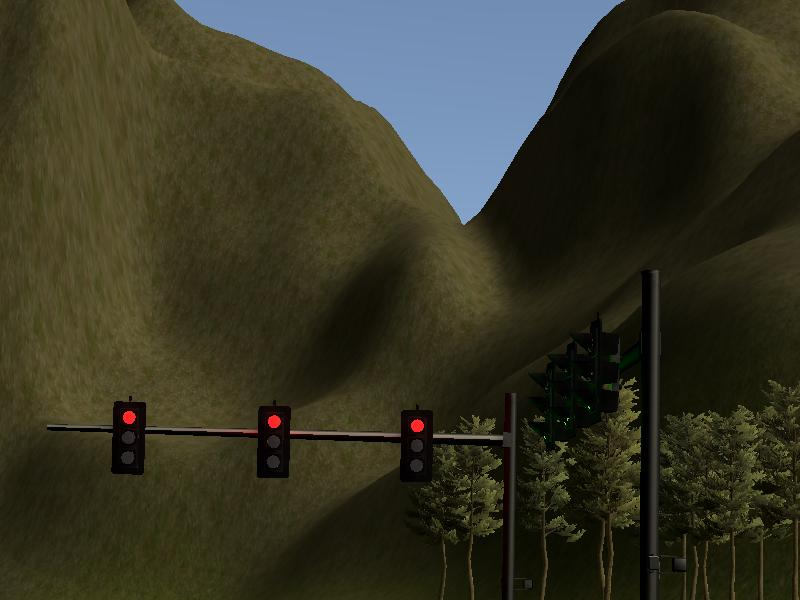red: (110, 399, 146, 476), (256, 404, 290, 478), (399, 409, 433, 483)
